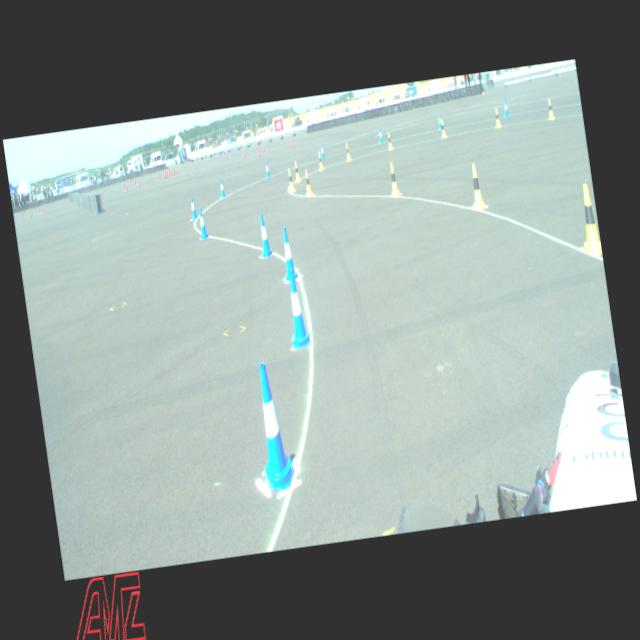blue_cone: (250, 361, 296, 492), (283, 270, 311, 347), (278, 227, 298, 280), (257, 214, 273, 258), (197, 208, 209, 240), (189, 196, 198, 220), (220, 180, 227, 198), (503, 100, 510, 117), (378, 128, 384, 144), (264, 162, 270, 178), (320, 144, 326, 160), (437, 114, 442, 130)
yellow_cone: (576, 182, 602, 255), (468, 163, 485, 210), (387, 162, 402, 196), (286, 168, 296, 192), (304, 170, 312, 196), (546, 98, 555, 120), (293, 160, 301, 182), (494, 108, 502, 128), (345, 142, 352, 161), (386, 132, 393, 150), (317, 152, 324, 170), (439, 120, 446, 138)
